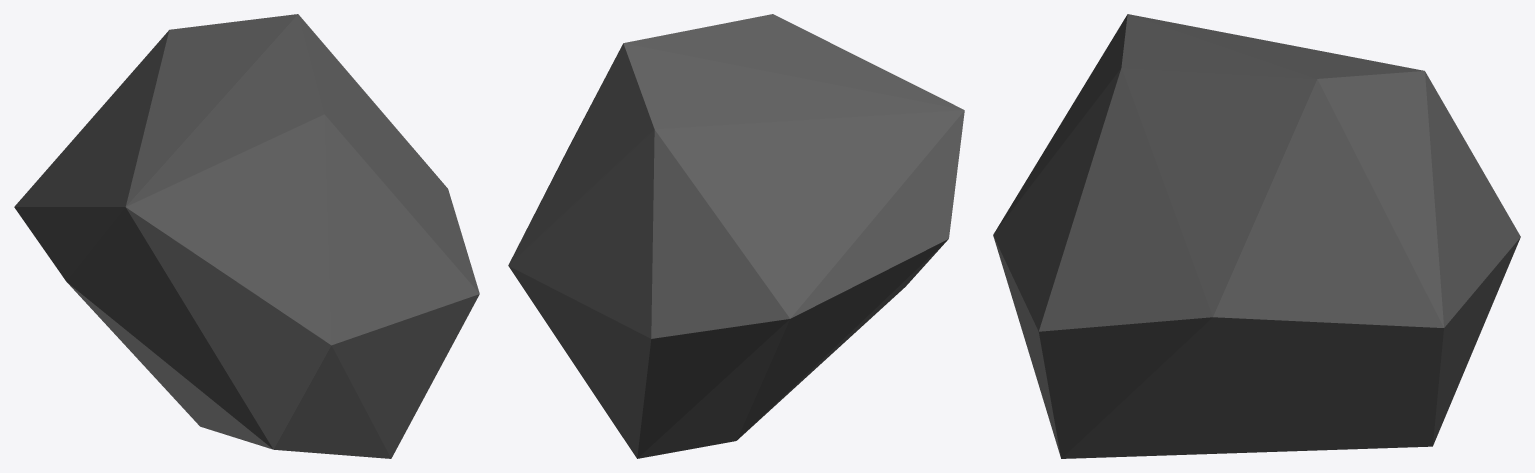
The model's file is SmokePuff.fbx.
The picture shows the model from 3 angles, left to right: view 1: azimuth 30°, elevation 25°; view 2: azimuth 150°, elevation 25°; view 3: azimuth 270°, elevation 25°; orthographic projection. The views are drawn at different scales.
Visible parts, largest first — view 1: SmokePuff; view 2: SmokePuff; view 3: SmokePuff.
Boxes of the visible parts, box(x1,y1,x2,y2) form: SmokePuff: box(14, 14, 479, 458); SmokePuff: box(508, 14, 964, 458); SmokePuff: box(993, 14, 1520, 458).
Size of the model in its own units: 1.28 by 1.21 by 1.38.
